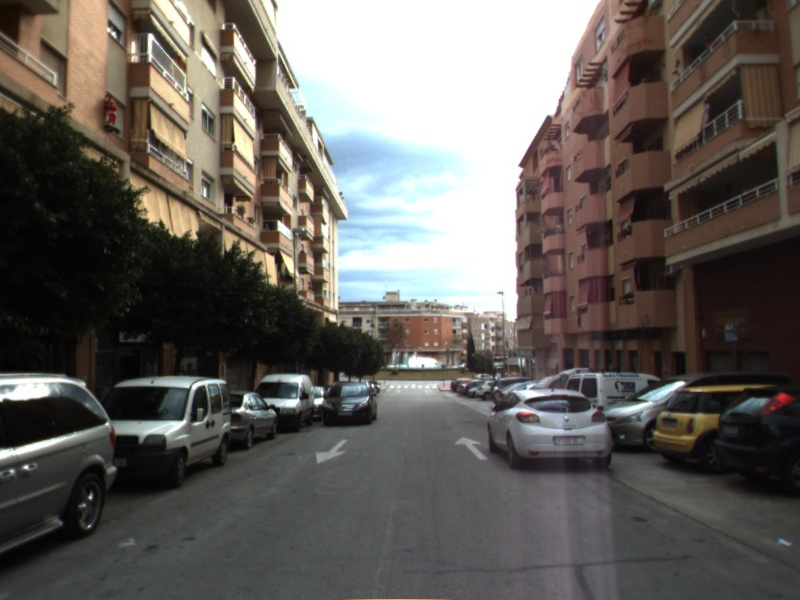STRAIGHT: (452, 434, 490, 462)
